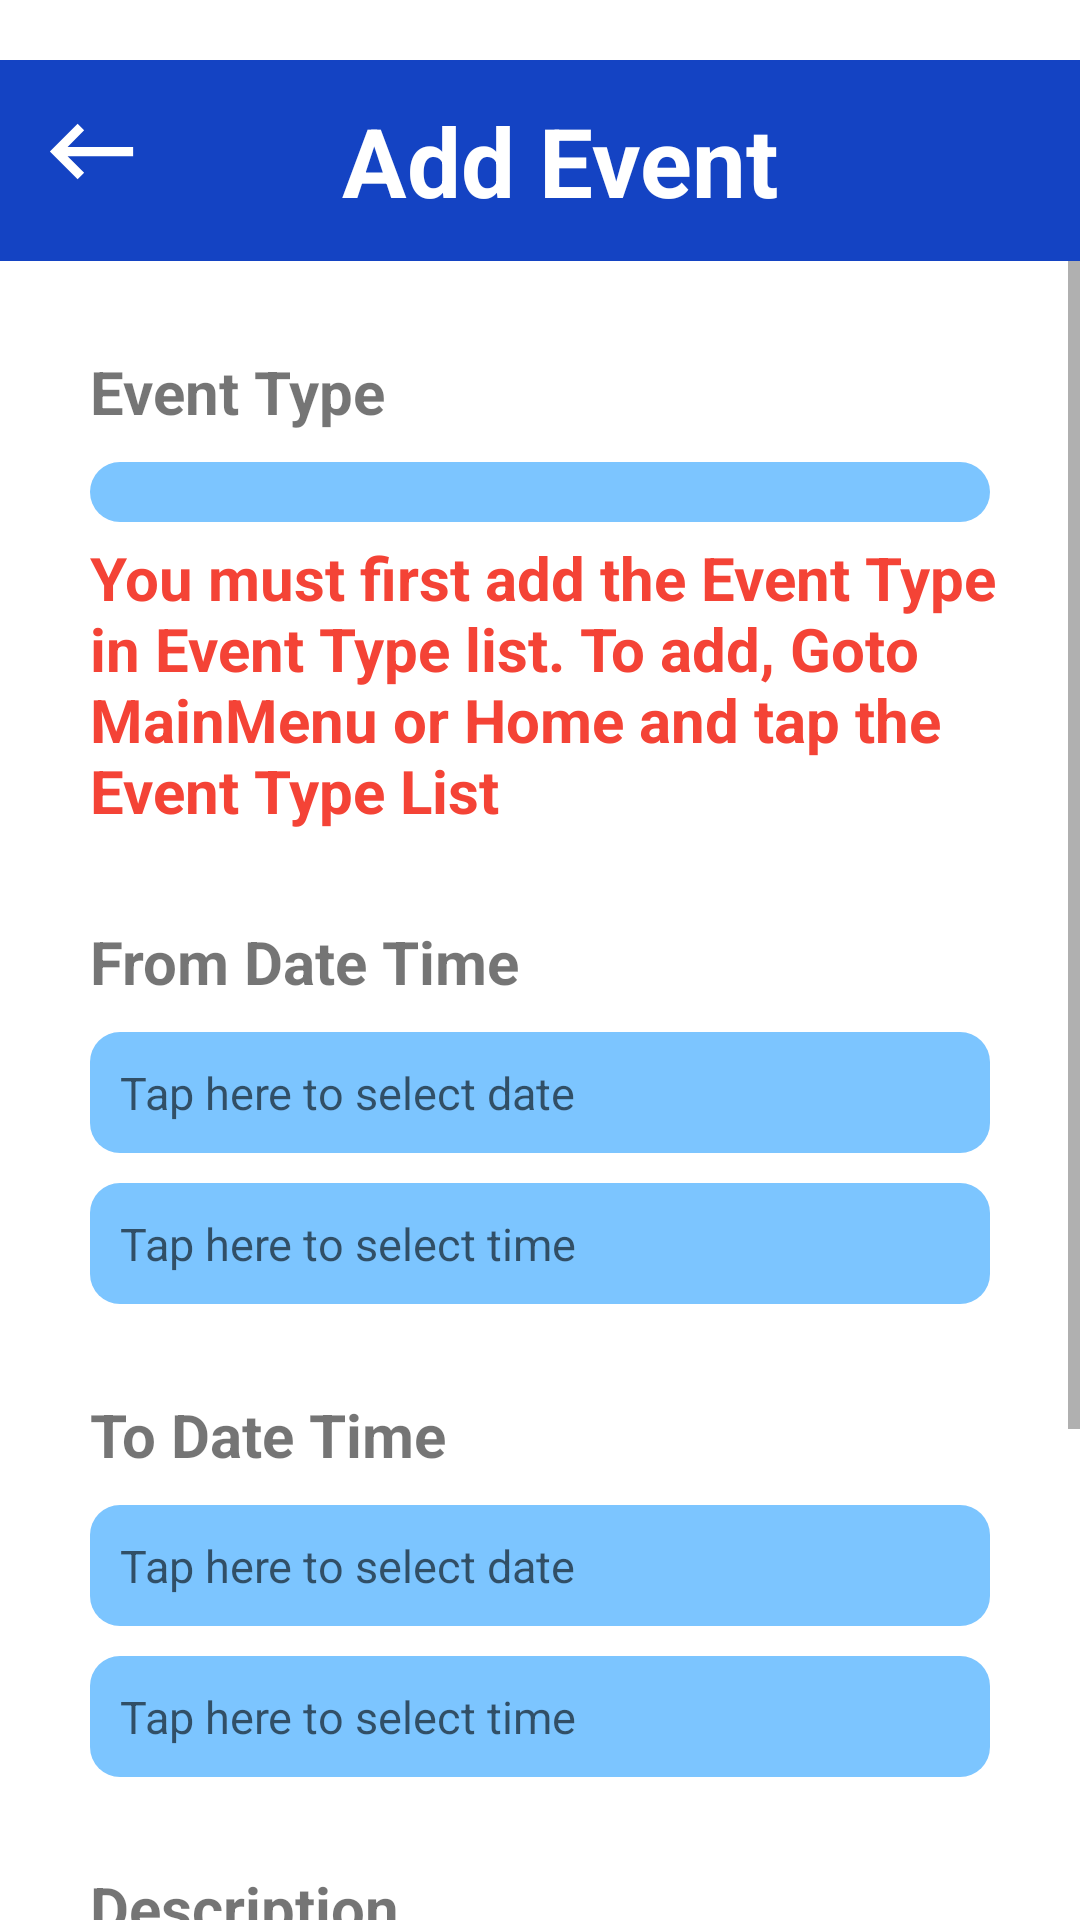

Screen size 1080*1920. Icon name, then its center in pixels as (x=x, y=y):
back arrow: (x=92, y=151)
